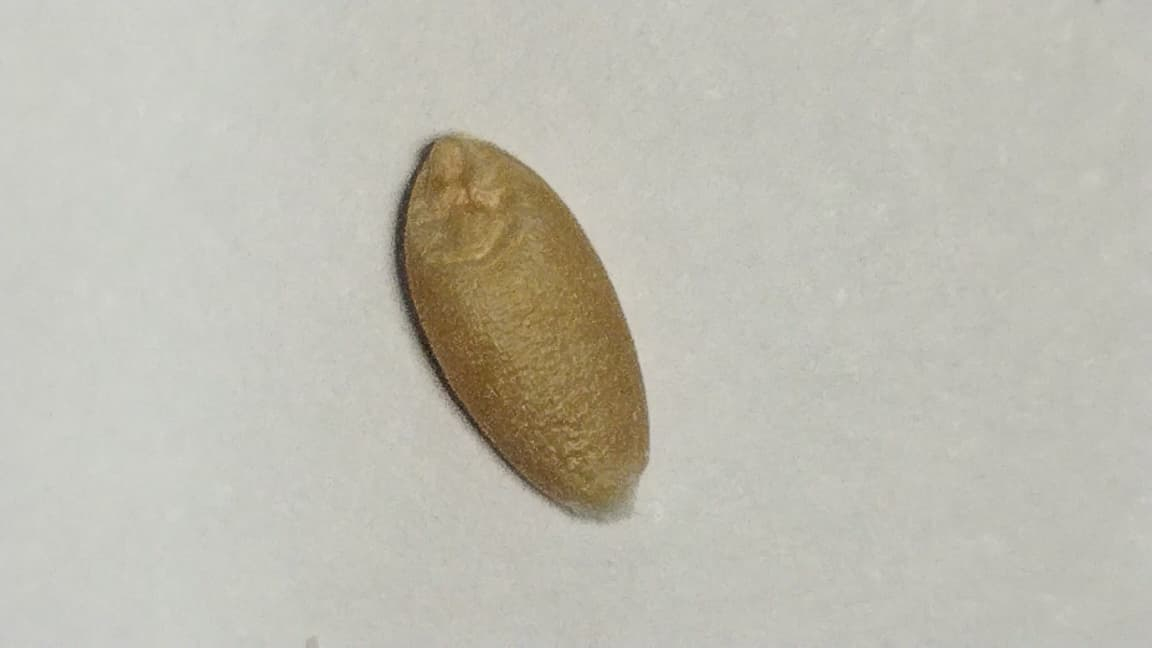healthy: (397, 131, 648, 518)
